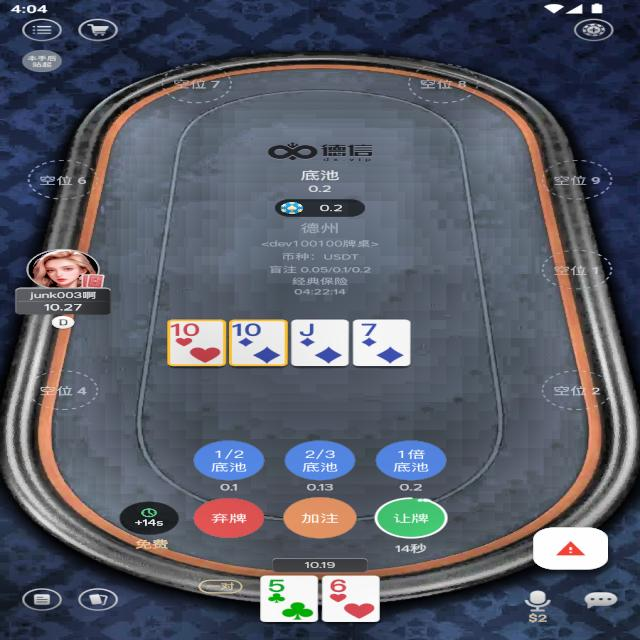10f: (232, 322, 263, 338)
10h: (171, 320, 202, 338)
5m: (266, 578, 288, 593)
6h: (326, 577, 351, 594)
7f: (356, 322, 381, 338)
Jf: (295, 322, 320, 337)
